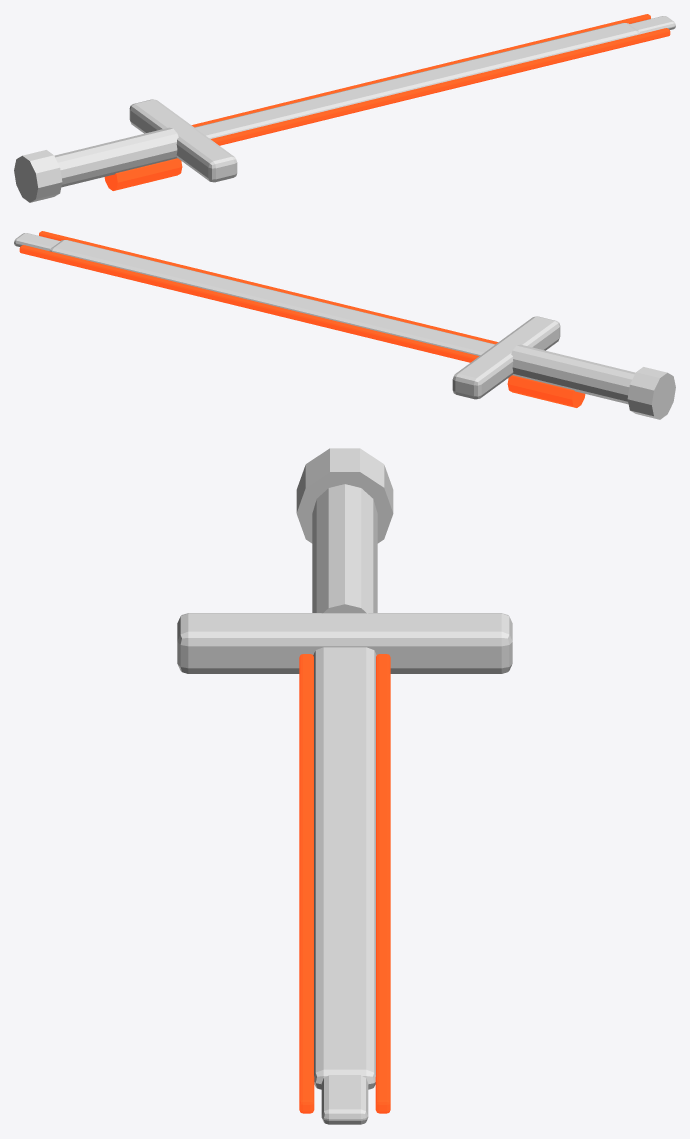
Rendered from HordePraetor_Crucible.fbx.
3 views of the same model, one above another, from view 1: azimuth 30°, elevation 25°; view 2: azimuth 150°, elevation 25°; view 3: azimuth 270°, elevation 25° (orthographic). The views are drawn at different scales.
Parts seen in each view (by area): view 1: CrucibleCore, PlasmaEdgeLower, Grip, Guard, Pommel, PlasmaEdgeUpper, PowerCell, CrucibleTip; view 2: CrucibleCore, PlasmaEdgeUpper, Grip, Guard, Pommel, PlasmaEdgeLower, PowerCell, CrucibleTip; view 3: CrucibleCore, Guard, Grip, PlasmaEdgeLower, PlasmaEdgeUpper, Pommel, CrucibleTip.
Boxes of the visible parts, <box> form: CrucibleCore: <box>194,23,640,138</box>; PlasmaEdgeLower: <box>211,28,670,145</box>; Grip: <box>54,127,178,187</box>; Guard: <box>129,99,237,182</box>; Pommel: <box>14,150,62,202</box>; PlasmaEdgeUpper: <box>191,14,650,127</box>; PowerCell: <box>104,158,182,190</box>; CrucibleTip: <box>629,16,675,33</box>; CrucibleCore: <box>49,240,495,355</box>; PlasmaEdgeUpper: <box>19,245,478,362</box>; Grip: <box>511,344,635,404</box>; Guard: <box>452,316,560,399</box>; Pommel: <box>627,367,675,419</box>; PlasmaEdgeLower: <box>39,231,498,344</box>; PowerCell: <box>507,375,585,407</box>; CrucibleTip: <box>14,233,60,250</box>; CrucibleCore: <box>313,647,376,1089</box>; Guard: <box>177,613,512,673</box>; Grip: <box>312,484,377,613</box>; PlasmaEdgeLower: <box>299,654,314,1113</box>; PlasmaEdgeUpper: <box>375,654,390,1113</box>; Pommel: <box>296,448,393,543</box>; CrucibleTip: <box>321,1075,368,1124</box>.
Bounding box in the file's own units: 160 × 12.3 × 36.
